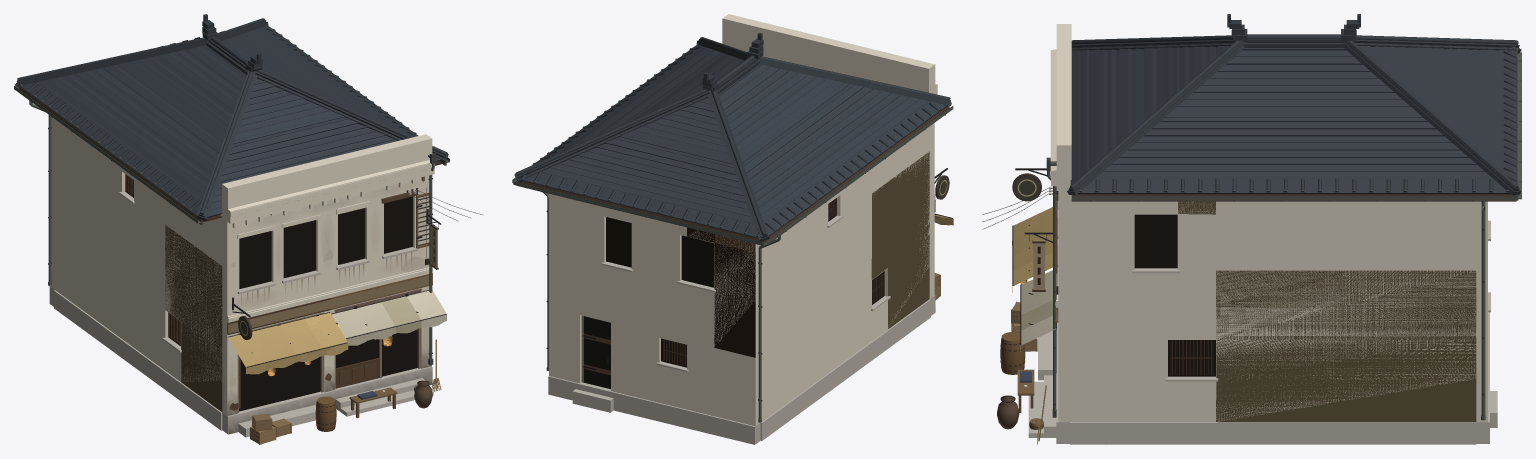
File: building-a.glb
3 renders of one model, left to right at view 1: azimuth 30°, elevation 25°; view 2: azimuth 150°, elevation 25°; view 3: azimuth 270°, elevation 25°, orthographic. The views are drawn at different scales.
Visible parts, largest first — view 1: BLD_A_LOD0_wall_left, BLD_A_LOD0_roof, BLD_A_LOD0_wall_front, BLD_A_LOD2_wall_front, BLD_A_LOD2_roof, BLD_A_LOD1_roof, BLD_A_LOD1_wall_front, BLD_A_LOD1_wall_left, BLD_A_LOD1_awning, BLD_A_LOD2_awning, BLD_A_LOD0_streetprops, BLD_A_LOD2_wall_left (+9 smaller); view 2: BLD_A_LOD0_wall_back, BLD_A_LOD0_wall_left, BLD_A_LOD0_roof, BLD_A_LOD2_roof, BLD_A_LOD1_roof, BLD_A_LOD1_wall_back, BLD_A_LOD2_wall_back, BLD_A_LOD1_wall_front, BLD_A_LOD0_gutters, BLD_A_LOD0_wall_front, BLD_A_LOD2_wall_left, BLD_A_LOD1_wall_left; view 3: BLD_A_LOD0_wall_right, BLD_A_LOD0_roof, BLD_A_LOD1_wall_right, BLD_A_LOD2_roof, BLD_A_LOD1_roof, BLD_A_LOD0_wall_front, BLD_A_LOD2_wall_right, BLD_A_LOD0_gutters, BLD_A_LOD1_awning, BLD_A_LOD0_streetprops, BLD_A_LOD0_wall_back, BLD_A_LOD0_sign (+3 smaller).
Boxes of the visible parts, box(x1,y1,x2,y2) form: BLD_A_LOD0_wall_left: box(54, 119, 222, 430); BLD_A_LOD0_roof: box(16, 14, 448, 225); BLD_A_LOD0_wall_front: box(222, 134, 434, 437); BLD_A_LOD2_wall_front: box(222, 139, 434, 433); BLD_A_LOD2_roof: box(21, 26, 440, 216); BLD_A_LOD1_roof: box(21, 28, 440, 216); BLD_A_LOD1_wall_front: box(222, 163, 434, 415); BLD_A_LOD1_wall_left: box(55, 123, 222, 382); BLD_A_LOD1_awning: box(228, 290, 446, 374); BLD_A_LOD2_awning: box(230, 291, 445, 368); BLD_A_LOD0_streetprops: box(250, 339, 441, 444); BLD_A_LOD2_wall_left: box(54, 173, 222, 429); BLD_A_LOD0_wall_back: box(548, 194, 760, 444); BLD_A_LOD0_wall_left: box(760, 126, 930, 440); BLD_A_LOD0_roof: box(514, 32, 951, 246); BLD_A_LOD2_roof: box(522, 45, 946, 237); BLD_A_LOD1_roof: box(525, 47, 919, 237); BLD_A_LOD1_wall_back: box(549, 204, 755, 408); BLD_A_LOD2_wall_back: box(548, 217, 760, 444); BLD_A_LOD1_wall_front: box(722, 19, 937, 93); BLD_A_LOD0_gutters: box(512, 45, 953, 422); BLD_A_LOD0_wall_front: box(722, 14, 937, 315); BLD_A_LOD2_wall_left: box(761, 196, 930, 438); BLD_A_LOD1_wall_left: box(761, 152, 929, 361); BLD_A_LOD0_wall_right: box(1070, 185, 1476, 444); BLD_A_LOD0_roof: box(1067, 14, 1521, 201); BLD_A_LOD1_wall_right: box(1070, 201, 1476, 422); BLD_A_LOD2_roof: box(1070, 47, 1517, 192); BLD_A_LOD1_roof: box(1079, 46, 1506, 194); BLD_A_LOD0_wall_front: box(1028, 24, 1071, 443); BLD_A_LOD2_wall_right: box(1070, 214, 1476, 444); BLD_A_LOD0_gutters: box(1046, 49, 1521, 420); BLD_A_LOD1_awning: box(1012, 208, 1056, 350); BLD_A_LOD0_streetprops: box(997, 301, 1046, 444); BLD_A_LOD0_wall_back: box(1476, 201, 1497, 443); BLD_A_LOD0_sign: box(1012, 168, 1052, 291).
Size of the model in its own units: 7.41 by 8.54 by 11.3.
